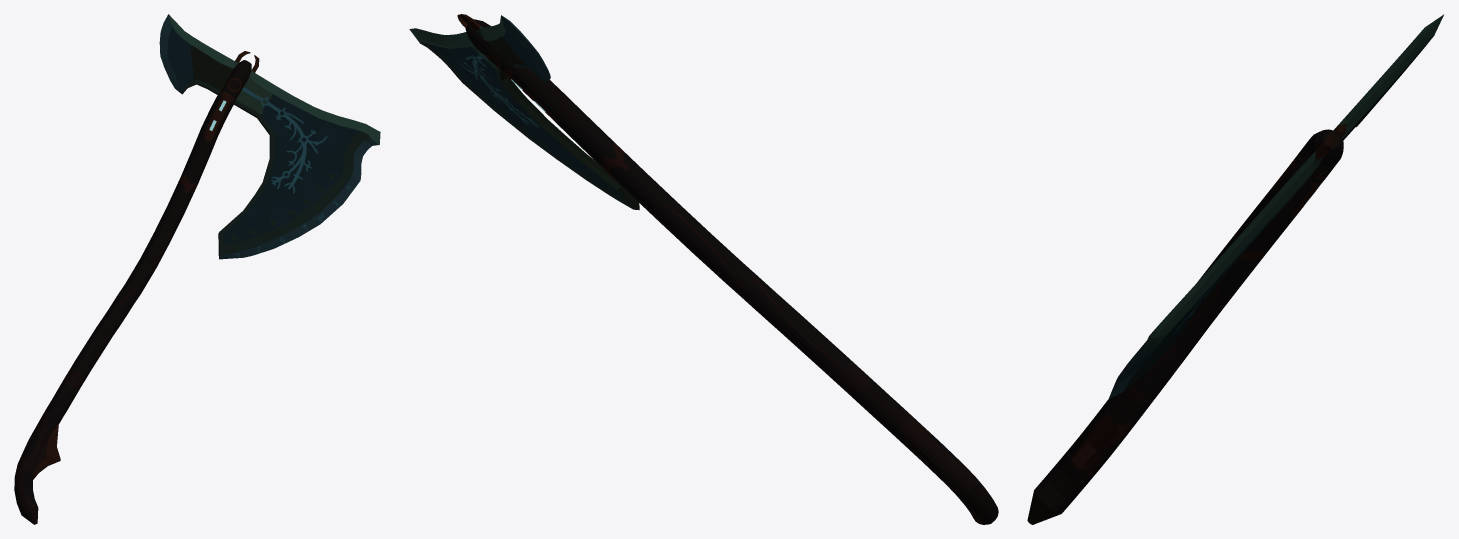
Rendered from HachaKratos.glb.
3 renders of one model, left to right at view 1: azimuth 30°, elevation 25°; view 2: azimuth 150°, elevation 25°; view 3: azimuth 270°, elevation 25°, orthographic. The views are drawn at different scales.
Parts seen in each view (by area): view 1: HachaKratos001; view 2: HachaKratos001; view 3: HachaKratos001.
Part boxes in pixels (bbox=[...]): HachaKratos001: bbox=[14, 14, 380, 524]; HachaKratos001: bbox=[409, 14, 998, 524]; HachaKratos001: bbox=[1027, 14, 1443, 524].
Size of the model in its own units: 17.38 by 16.16 by 8.27.
Materials: 3 (3 with a texture image).
